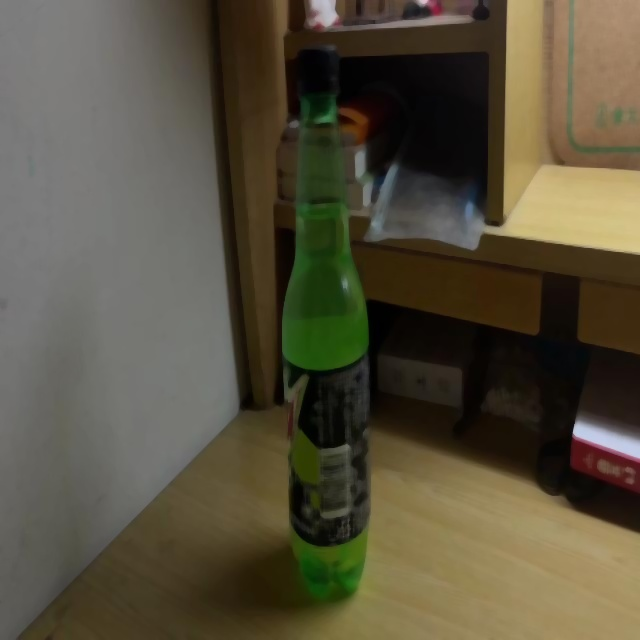Mountain-Dew: (279, 37, 374, 596)
